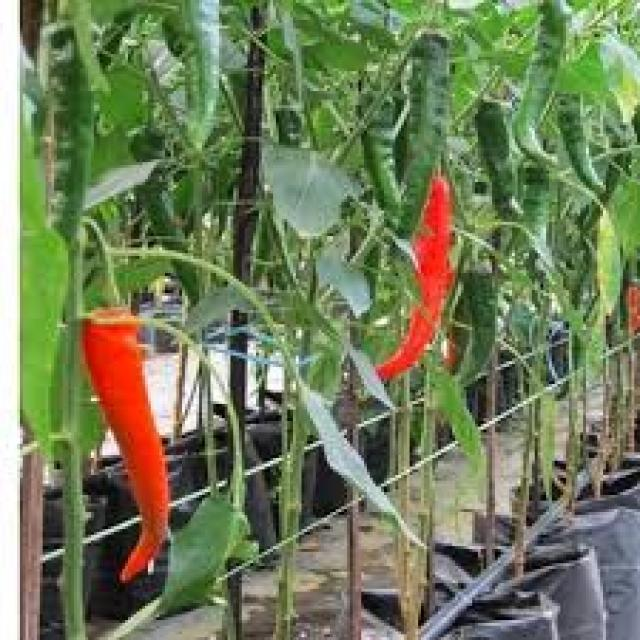sehat: (150, 472, 258, 628), (260, 140, 362, 243)
